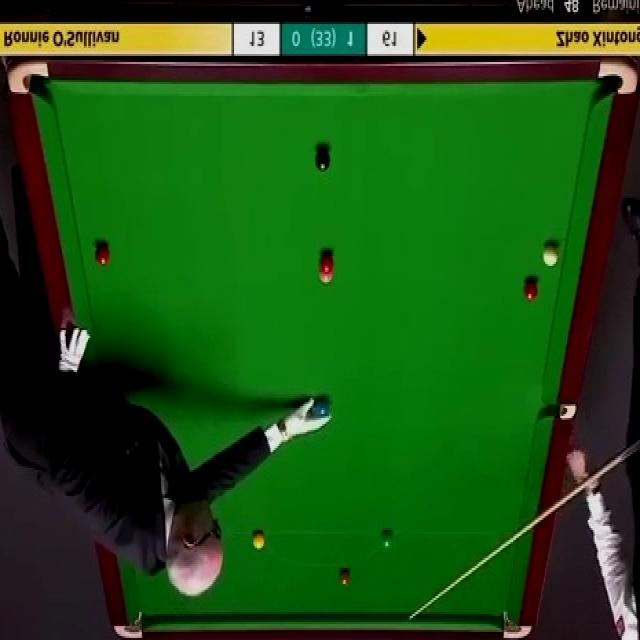black-ball: (315, 148, 330, 172)
blue-ball: (316, 397, 330, 422)
brown-ball: (338, 570, 351, 587)
green-ball: (380, 530, 393, 551)
pink-ball: (318, 268, 335, 286)
red-ball: (523, 278, 538, 302), (96, 245, 110, 266), (318, 253, 334, 270)
white-ball: (542, 242, 560, 266)
yellow-ball: (253, 530, 265, 550)
